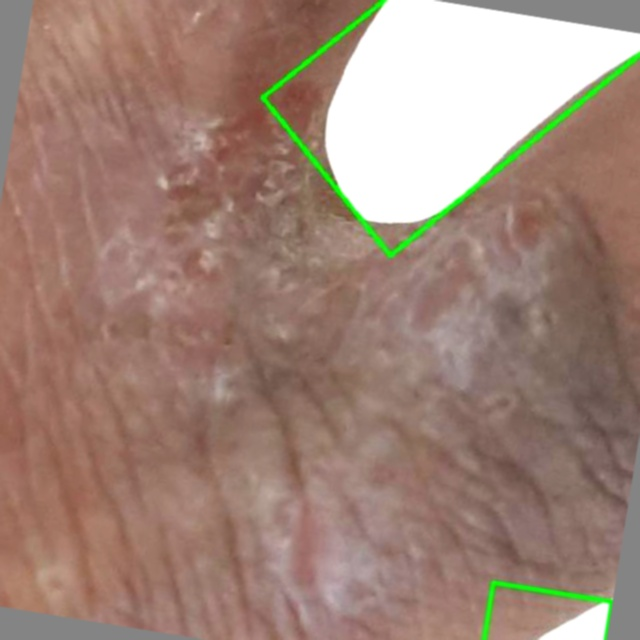Eczema: (262, 0, 639, 255)
